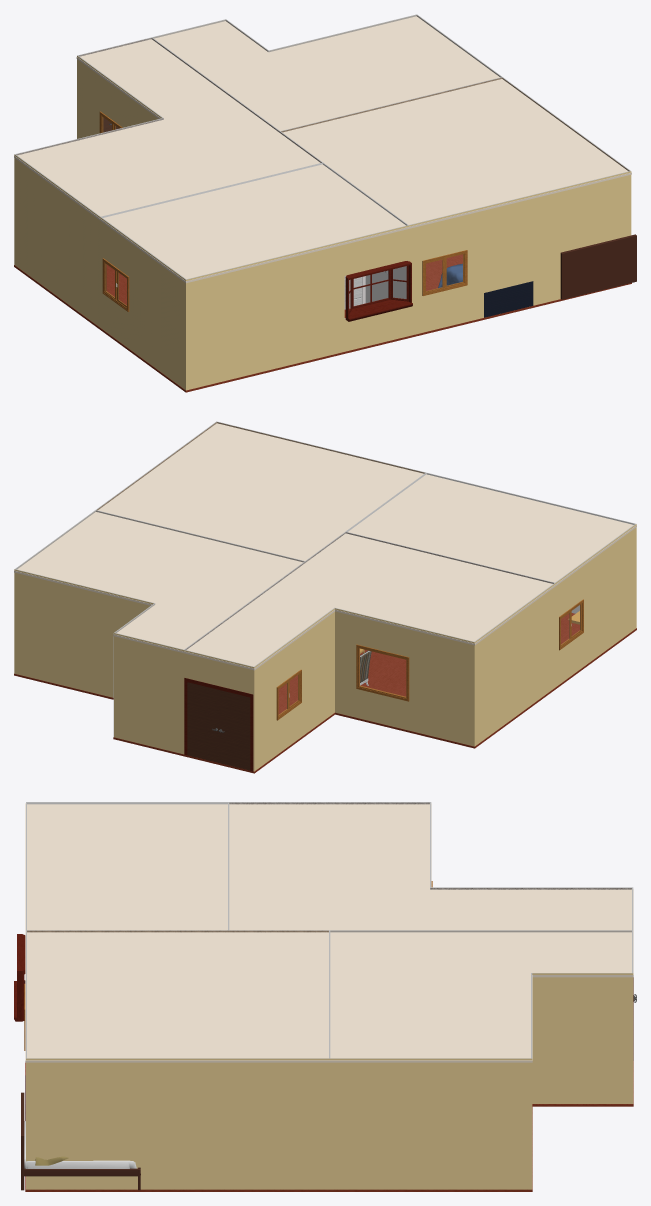
File: ProcTHOR-Train-146.glb
3 renders of one model, top to bottom at view 1: azimuth 30°, elevation 25°; view 2: azimuth 150°, elevation 25°; view 3: azimuth 270°, elevation 25°, orthographic. The views are drawn at different scales.
Visible parts, largest first — view 1: Ceiling#room|4|c, Ceiling#room|6|c, WallInside#wall|exterior|6.08|12.17|12.17|12.17, Ceiling#room|5|c, Ceiling#room|7|c, WallInside#wall|exterior|0.00|12.17|6.08|12.17, WallInside#wall|exterior|12.17|4.05|12.17|8.11, WallInside#wall|exterior|12.17|8.11|12.17|12.17, Bed_30, WallInside#wall|exterior|8.11|0.00|8.11|4.05, Window_Bay_2, Bed_28 (+5 smaller); view 2: Ceiling#room|4|c, Ceiling#room|6|c, Ceiling#room|5|c, Ceiling#room|7|c, WallInside#wall|exterior|8.11|4.05|12.17|4.05, WallInside#wall|exterior|0.00|2.03|4.05|2.03, WallInside#wall|exterior|12.17|4.05|12.17|8.11, WallInside#wall|exterior|12.17|8.11|12.17|12.17, WallInside#wall|exterior|8.11|0.00|8.11|4.05, WallInside#wall|exterior|4.05|0.00|6.08|0.00, Floor#room|6|f, Doorway_Door_1b (+7 smaller); view 3: Ceiling#room|4|c, WallInside#wall|exterior|0.00|6.08|0.00|12.17, Ceiling#room|6|c, Ceiling#room|5|c, WallInside#wall|exterior|0.00|2.03|0.00|6.08, Ceiling#room|7|c, WallInside#wall|exterior|4.05|0.00|4.05|2.03, Bed_30, Floor#room|5|f, Floor#room|4|f, WallInside#wall|5|6.08|0.00|6.08|6.08, Window_Bay_2 (+4 smaller).
Part boxes in pixels (box(x1,y1,x2,y2)): Ceiling#room|4|c: box(282, 79, 631, 228); Ceiling#room|6|c: box(14, 39, 322, 219); WallInside#wall|exterior|6.08|12.17|12.17|12.17: box(186, 225, 408, 390); Ceiling#room|5|c: box(154, 16, 499, 130); Ceiling#room|7|c: box(100, 164, 408, 283); WallInside#wall|exterior|0.00|12.17|6.08|12.17: box(408, 171, 631, 335); WallInside#wall|exterior|12.17|4.05|12.17|8.11: box(14, 154, 100, 327); WallInside#wall|exterior|12.17|8.11|12.17|12.17: box(100, 217, 185, 389); Bed_30: box(560, 234, 636, 299); WallInside#wall|exterior|8.11|0.00|8.11|4.05: box(77, 55, 162, 138); Window_Bay_2: box(345, 261, 412, 321); Bed_28: box(438, 263, 533, 317); Ceiling#room|4|c: box(98, 423, 426, 560); Ceiling#room|6|c: box(184, 533, 555, 670); Ceiling#room|5|c: box(14, 512, 302, 653); Ceiling#room|7|c: box(348, 474, 636, 585); WallInside#wall|exterior|8.11|4.05|12.17|4.05: box(335, 608, 474, 746); WallInside#wall|exterior|0.00|2.03|4.05|2.03: box(14, 569, 153, 697); WallInside#wall|exterior|12.17|4.05|12.17|8.11: box(474, 583, 555, 746); WallInside#wall|exterior|12.17|8.11|12.17|12.17: box(555, 524, 636, 687); WallInside#wall|exterior|8.11|0.00|8.11|4.05: box(254, 608, 334, 771); WallInside#wall|exterior|4.05|0.00|6.08|0.00: box(114, 633, 184, 754); Floor#room|6|f: box(184, 650, 555, 773); Doorway_Door_1b: box(187, 682, 218, 762); Ceiling#room|4|c: box(25, 932, 330, 1062); WallInside#wall|exterior|0.00|6.08|0.00|12.17: box(26, 1058, 329, 1189); Ceiling#room|6|c: box(227, 803, 633, 931); Ceiling#room|5|c: box(328, 932, 633, 1062); WallInside#wall|exterior|0.00|2.03|0.00|6.08: box(329, 1058, 532, 1189); Ceiling#room|7|c: box(25, 803, 229, 932); WallInside#wall|exterior|4.05|0.00|4.05|2.03: box(532, 973, 633, 1103); Bed_30: box(21, 1092, 140, 1190); Floor#room|5|f: box(329, 1061, 633, 1191); Floor#room|4|f: box(25, 1062, 330, 1191); WallInside#wall|5|6.08|0.00|6.08|6.08: box(330, 930, 631, 932); Window_Bay_2: box(14, 934, 25, 1021).
Size of what is drawn, in the model's own units: 12.32 by 2.94 by 12.5.
Materials: 204 (79 with a texture image).
